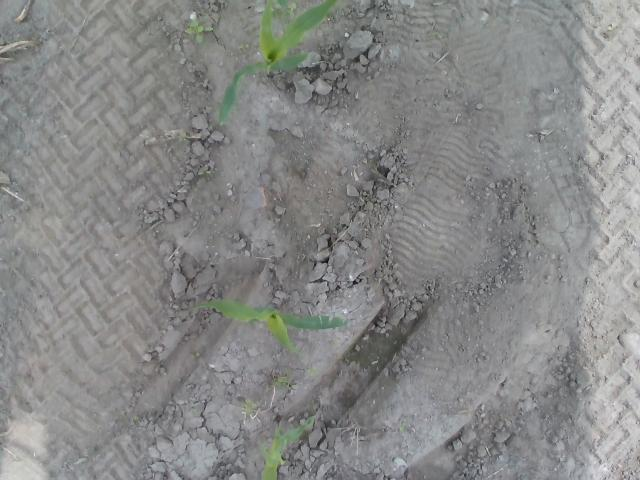Maize: (215, 0, 341, 125), (181, 302, 347, 356), (262, 415, 316, 480)
Weeds: (186, 18, 213, 45), (272, 0, 300, 16), (272, 374, 289, 388), (243, 400, 253, 416), (306, 366, 318, 377), (188, 350, 200, 360), (238, 42, 248, 54), (198, 169, 212, 177), (178, 130, 186, 142), (607, 23, 615, 31)
